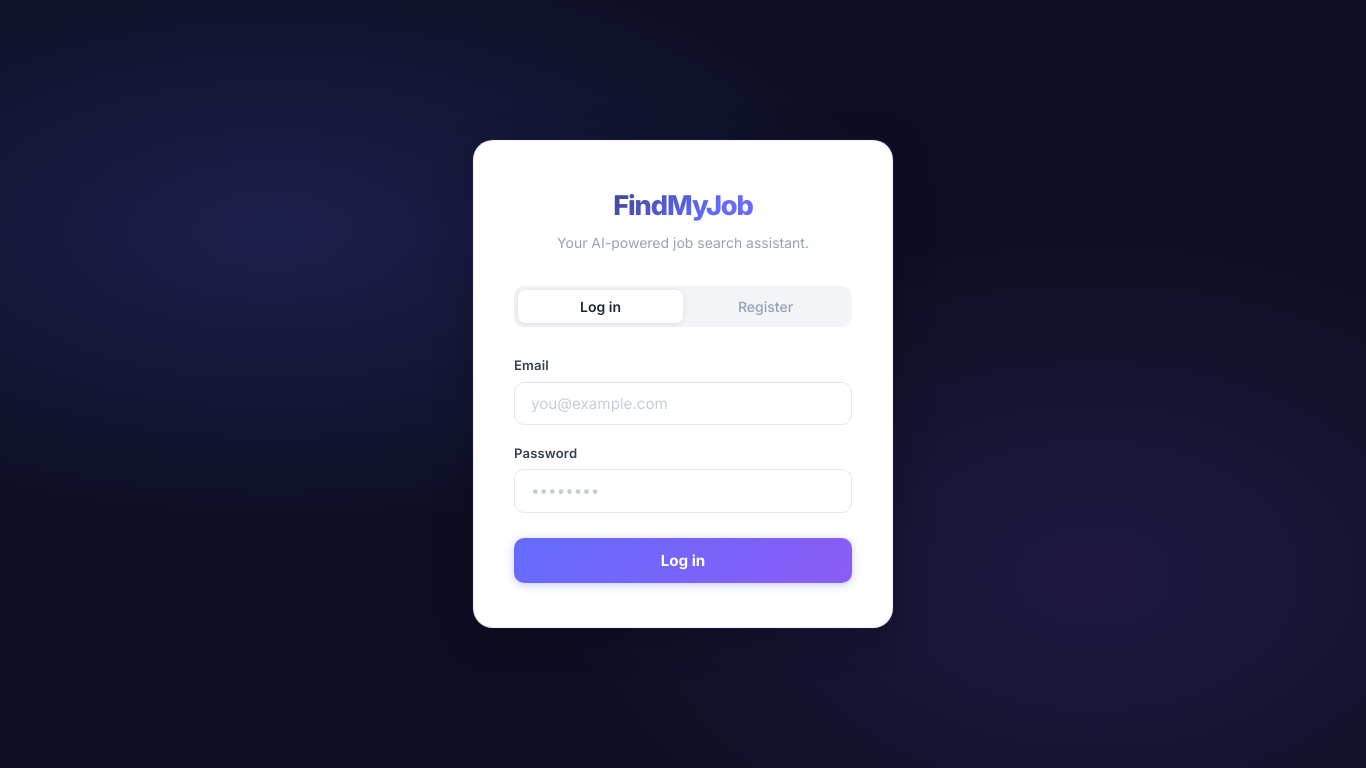
Test case: AuthPage › afișează câmpul Full name după switch pe Register
The width and height of the screenshot is (1366, 768).
Click the button "Register": (766, 306) [683,290,848,323]
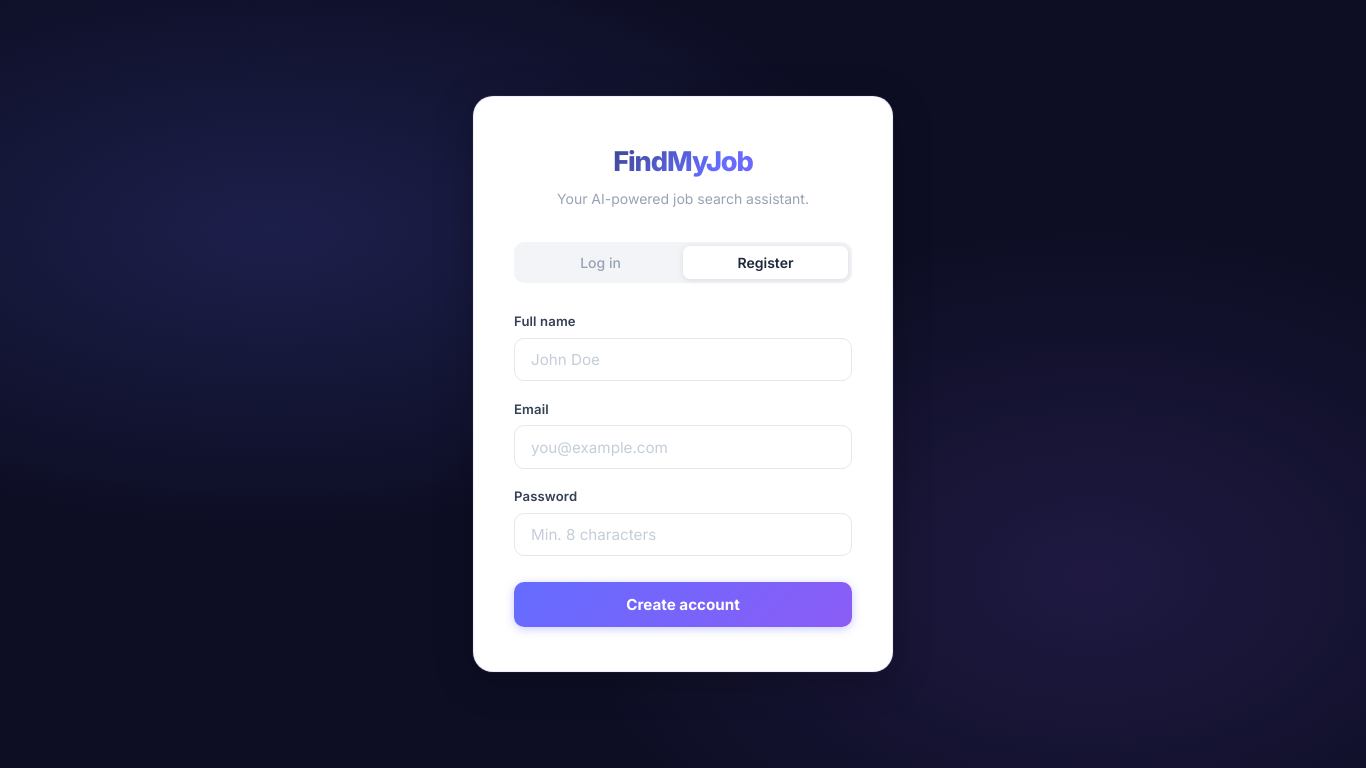
Check: the field labelled "Full name" is shown, box [514,338,852,381]
Check: the button "Create account" is shown, box [514,582,852,627]
